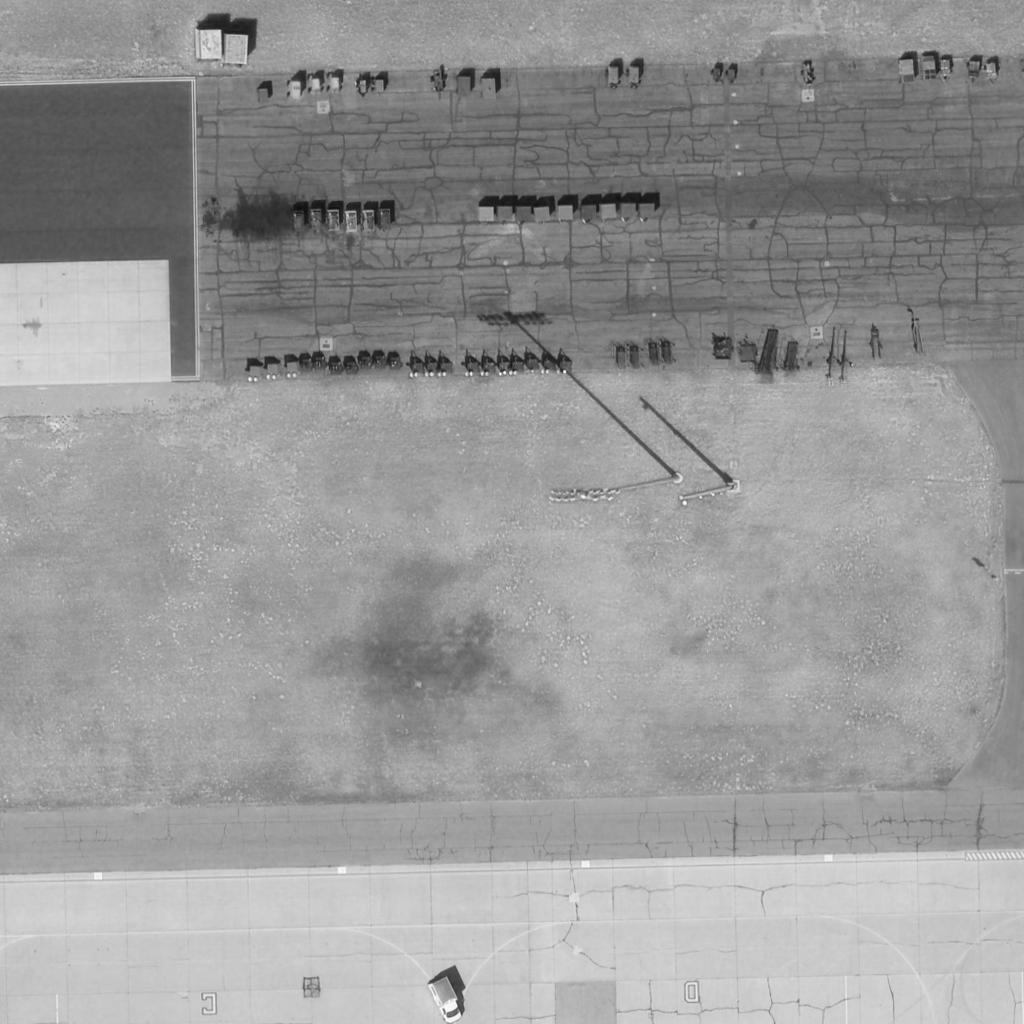vehicle: (429, 978, 461, 1022)
